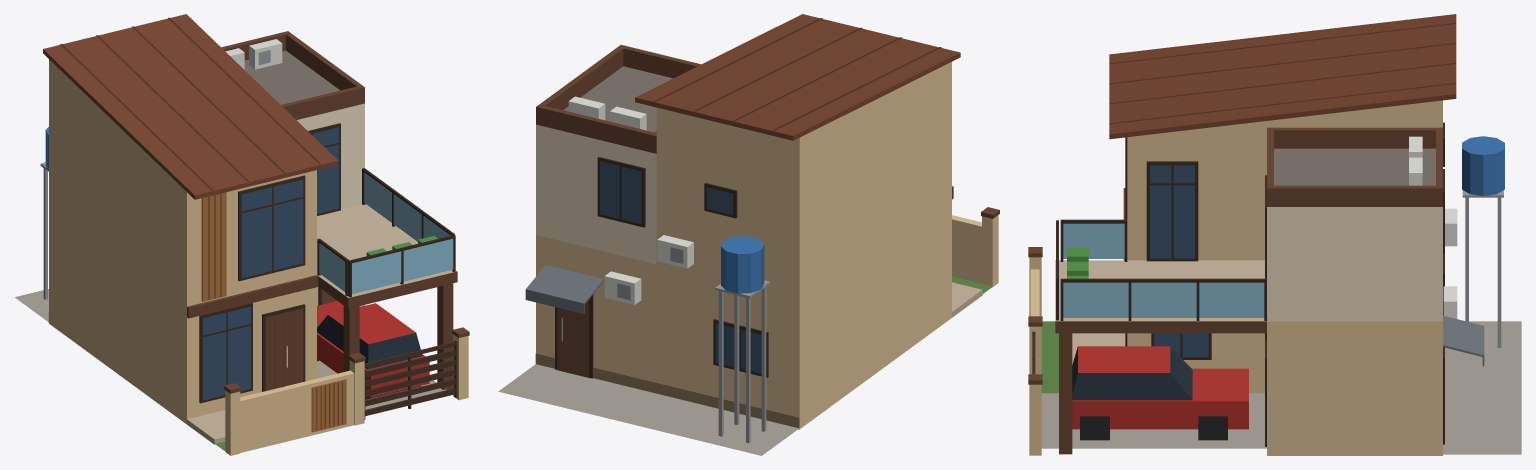
Rendered from rumah2_01.glb.
The picture shows the model from 3 angles, left to right: view 1: azimuth 30°, elevation 25°; view 2: azimuth 150°, elevation 25°; view 3: azimuth 270°, elevation 25°; orthographic projection. The views are drawn at different scales.
Parts seen in each view (by area): view 1: rumah2_01; view 2: rumah2_01; view 3: rumah2_01.
Part boxes in pixels (x1,y1,x2,y2): rumah2_01: (15, 14, 469, 455); rumah2_01: (498, 14, 999, 455); rumah2_01: (1028, 14, 1521, 455).
Size of the model in its own units: 7 by 7.57 by 10.95.
